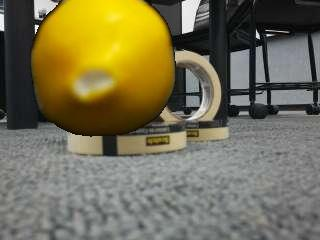lemon: (32, 0, 174, 134)
